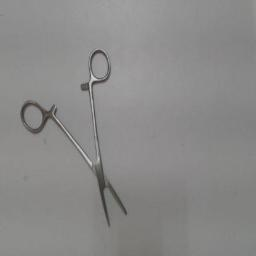Mayo Needle Holder: (18, 44, 132, 234)
